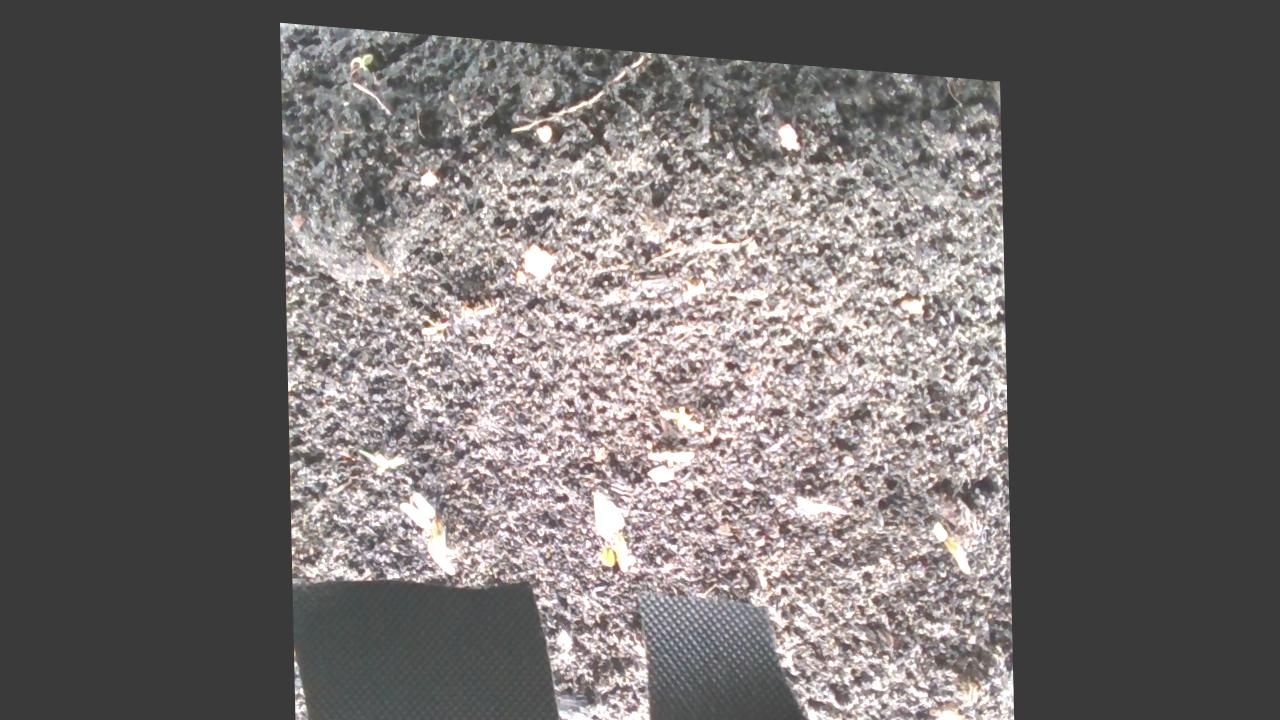weed: (927, 500, 970, 568)
